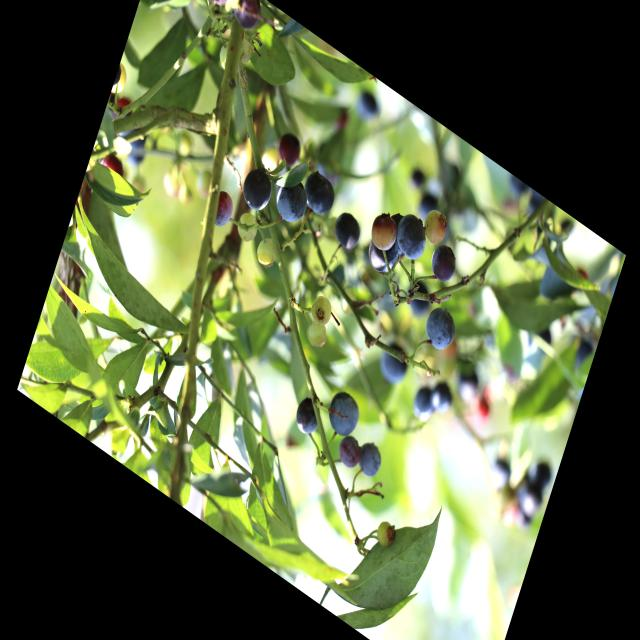blueberry: (388, 203, 433, 271), (269, 170, 313, 235), (324, 385, 365, 446), (300, 166, 341, 226), (423, 232, 463, 292), (327, 204, 367, 262), (237, 161, 276, 220), (420, 301, 459, 358), (290, 390, 327, 443), (364, 232, 400, 284), (379, 340, 414, 390), (205, 182, 237, 232), (354, 437, 386, 485), (408, 381, 440, 427), (333, 430, 364, 473), (515, 477, 546, 520), (230, 0, 264, 35), (428, 376, 456, 418), (199, 0, 237, 12)
blueberry-halfripe: (366, 206, 402, 260), (272, 126, 306, 173), (422, 203, 453, 250)
blueberry-unripe: (307, 290, 337, 333), (233, 206, 262, 248), (252, 232, 280, 271), (303, 318, 329, 353)
